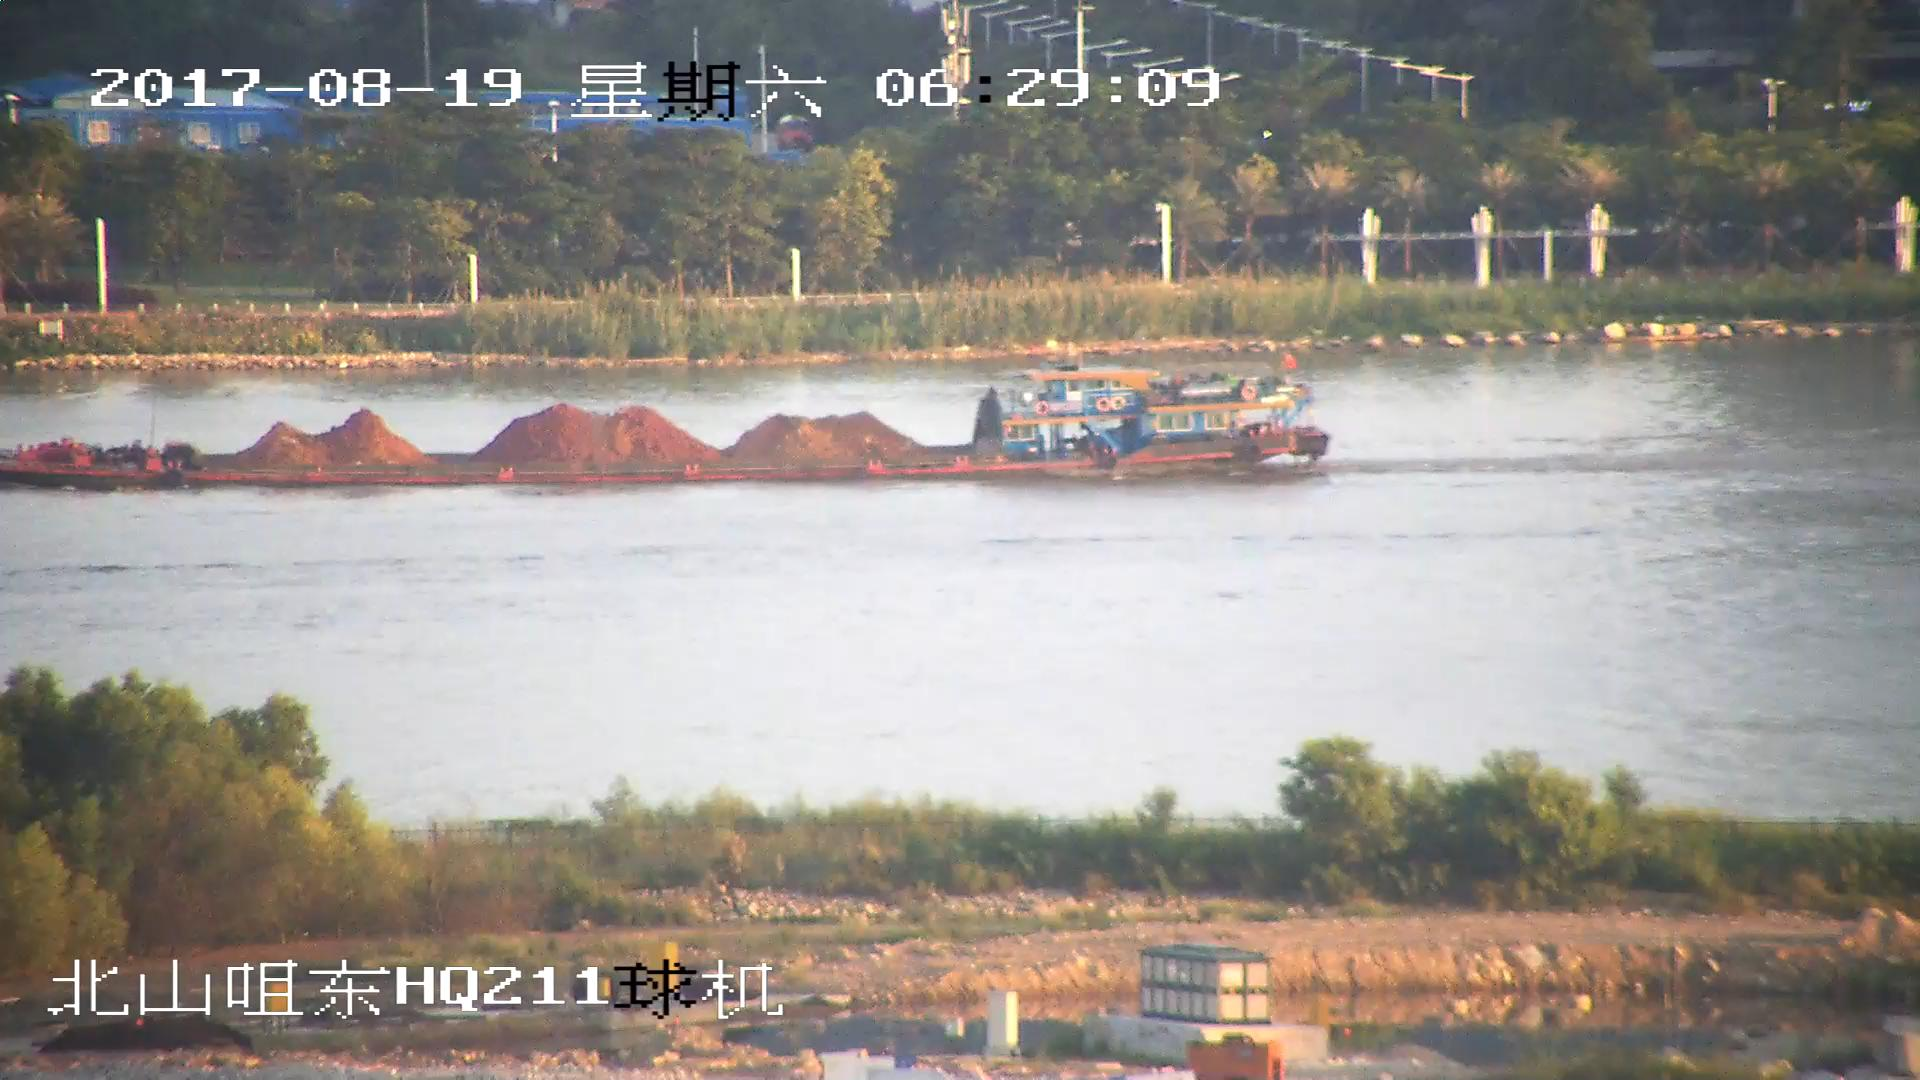ore carrier: (1, 352, 1324, 494)
